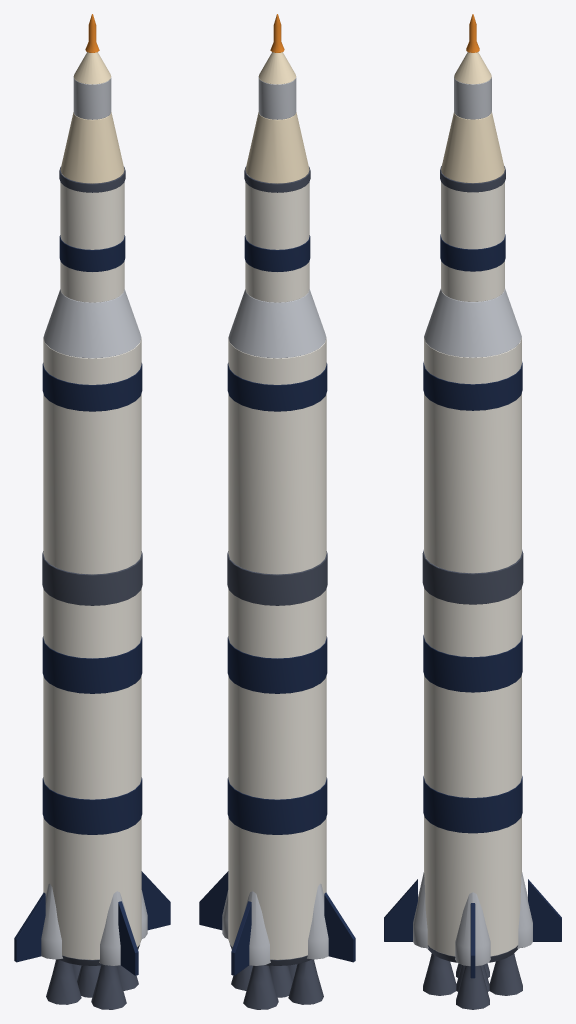
Rendered from Ship_RocketLarge.fbx.
3 views of the same model, side by side, from view 1: azimuth 30°, elevation 25°; view 2: azimuth 150°, elevation 25°; view 3: azimuth 270°, elevation 25° (orthographic).
Visible parts, largest first — view 1: Ship_RocketLarge.Stage1, Ship_RocketLarge.Stage2, Ship_RocketLarge.Stage3, Ship_RocketLarge.Taper, Ship_RocketLarge.Band1, Ship_RocketLarge.Band2, Ship_RocketLarge.Adapter, Ship_RocketLarge.Fins, Ship_RocketLarge.Engines, Ship_RocketLarge.Ring1, Ship_RocketLarge.Band3, Ship_RocketLarge.Fairings (+4 smaller); view 2: Ship_RocketLarge.Stage1, Ship_RocketLarge.Stage2, Ship_RocketLarge.Stage3, Ship_RocketLarge.Taper, Ship_RocketLarge.Band1, Ship_RocketLarge.Band2, Ship_RocketLarge.Adapter, Ship_RocketLarge.Fins, Ship_RocketLarge.Engines, Ship_RocketLarge.Ring1, Ship_RocketLarge.Band3, Ship_RocketLarge.Fairings (+4 smaller); view 3: Ship_RocketLarge.Stage1, Ship_RocketLarge.Stage2, Ship_RocketLarge.Stage3, Ship_RocketLarge.Taper, Ship_RocketLarge.Band2, Ship_RocketLarge.Band1, Ship_RocketLarge.Engines, Ship_RocketLarge.Adapter, Ship_RocketLarge.Ring1, Ship_RocketLarge.Fairings, Ship_RocketLarge.Fins, Ship_RocketLarge.Band3 (+4 smaller).
Part boxes in pixels (x1,y1,x2,y2): Ship_RocketLarge.Stage1: (43,589,141,959); Ship_RocketLarge.Stage2: (43,338,141,574); Ship_RocketLarge.Stage3: (60,182,124,302); Ship_RocketLarge.Taper: (43,289,141,358); Ship_RocketLarge.Band1: (42,777,142,834); Ship_RocketLarge.Band2: (42,636,142,693); Ship_RocketLarge.Adapter: (60,112,124,183); Ship_RocketLarge.Fins: (14,871,170,975); Ship_RocketLarge.Engines: (46,959,138,1009); Ship_RocketLarge.Ring1: (42,551,142,605); Ship_RocketLarge.Band3: (42,363,142,411); Ship_RocketLarge.Fairings: (41,883,147,965); Ship_RocketLarge.Stage1: (228,589,326,959); Ship_RocketLarge.Stage2: (228,338,326,574); Ship_RocketLarge.Stage3: (245,182,309,302); Ship_RocketLarge.Taper: (228,289,326,358); Ship_RocketLarge.Band1: (227,777,327,834); Ship_RocketLarge.Band2: (227,636,327,693); Ship_RocketLarge.Adapter: (245,112,309,183); Ship_RocketLarge.Fins: (199,871,355,975); Ship_RocketLarge.Engines: (231,959,323,1009); Ship_RocketLarge.Ring1: (227,551,327,605); Ship_RocketLarge.Band3: (227,363,327,411); Ship_RocketLarge.Fairings: (222,883,328,965); Ship_RocketLarge.Stage1: (424,588,521,956); Ship_RocketLarge.Stage2: (424,337,521,573); Ship_RocketLarge.Stage3: (441,182,504,301); Ship_RocketLarge.Taper: (424,289,521,357); Ship_RocketLarge.Band2: (423,635,522,692); Ship_RocketLarge.Band1: (423,776,522,833); Ship_RocketLarge.Engines: (423,953,522,1009); Ship_RocketLarge.Adapter: (441,112,504,183); Ship_RocketLarge.Ring1: (422,550,523,604); Ship_RocketLarge.Fairings: (413,872,532,966); Ship_RocketLarge.Fins: (384,879,561,978); Ship_RocketLarge.Band3: (423,362,522,410).
Size of the model in its own units: 18.3 by 111 by 18.3.
Materials: 1 (1 with a texture image).
